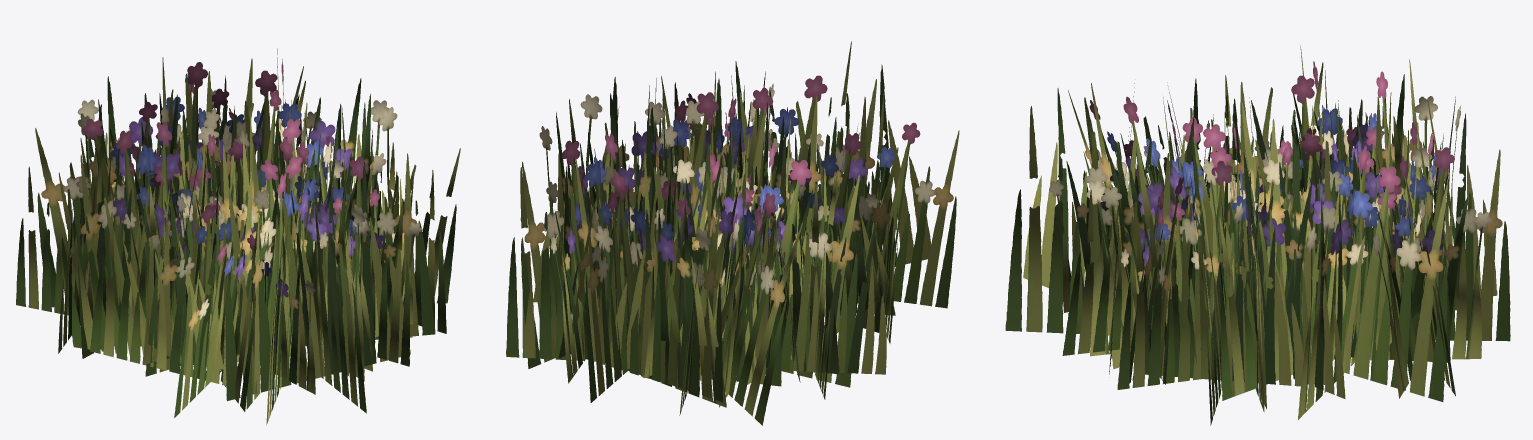
File: flowers_lod2.glb
3 views of the same model, side by side, from view 1: azimuth 30°, elevation 25°; view 2: azimuth 150°, elevation 25°; view 3: azimuth 270°, elevation 25° (orthographic). The views are drawn at different scales.
Visible parts, largest first — view 1: flowers_lod2; view 2: flowers_lod2; view 3: flowers_lod2.
Part boxes in pixels (left/top/right/bottom): flowers_lod2: left=16, top=48, right=460, bottom=425; flowers_lod2: left=506, top=41, right=959, bottom=425; flowers_lod2: left=1005, top=46, right=1510, bottom=425.
Size of the model in its own units: 1.5 by 0.9528 by 1.64.
Materials: 1 (1 with a texture image).
